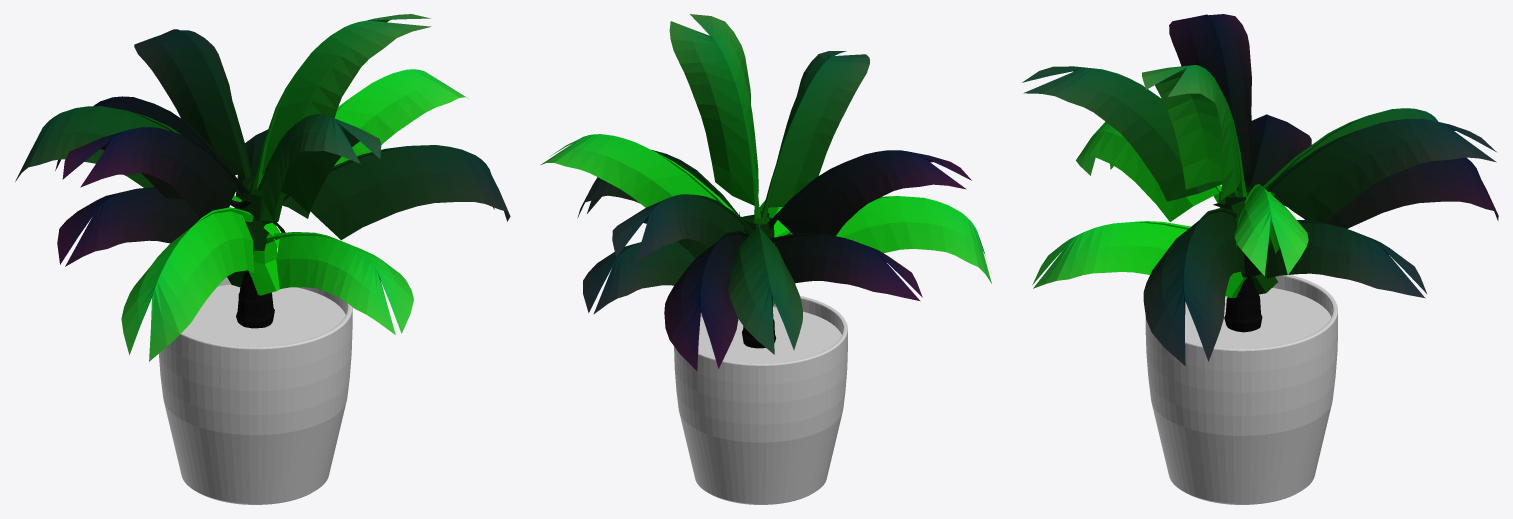
The model's file is mv_PottedPlantC.fbx.
3 views of the same model, side by side, from view 1: azimuth 30°, elevation 25°; view 2: azimuth 150°, elevation 25°; view 3: azimuth 270°, elevation 25° (orthographic). The views are drawn at different scales.
Visible parts, largest first — view 1: PottedPlantC_LOD0; view 2: PottedPlantC_LOD0; view 3: PottedPlantC_LOD0.
Part boxes in pixels (box(x1,y1,x2,y2)): PottedPlantC_LOD0: box(15, 14, 510, 504); PottedPlantC_LOD0: box(540, 14, 991, 504); PottedPlantC_LOD0: box(1022, 14, 1498, 504).
Size of what is drawn, in the model's own units: 51.64 by 51.17 by 49.27.
